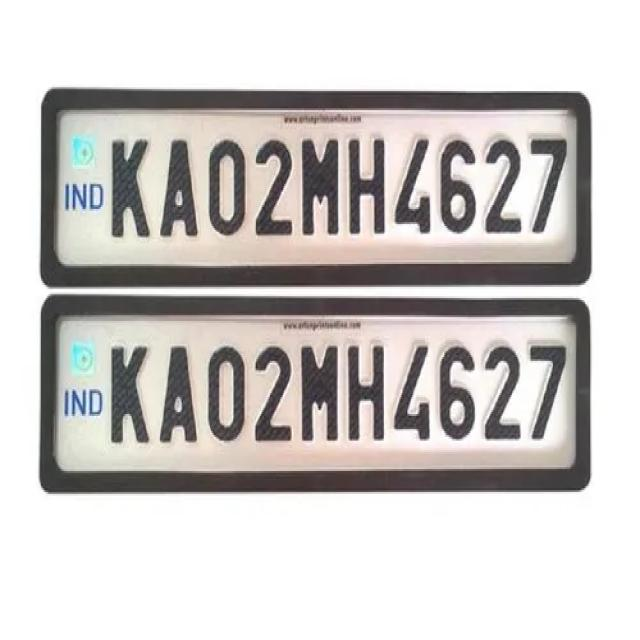plate: (34, 287, 602, 504), (33, 76, 594, 290)
